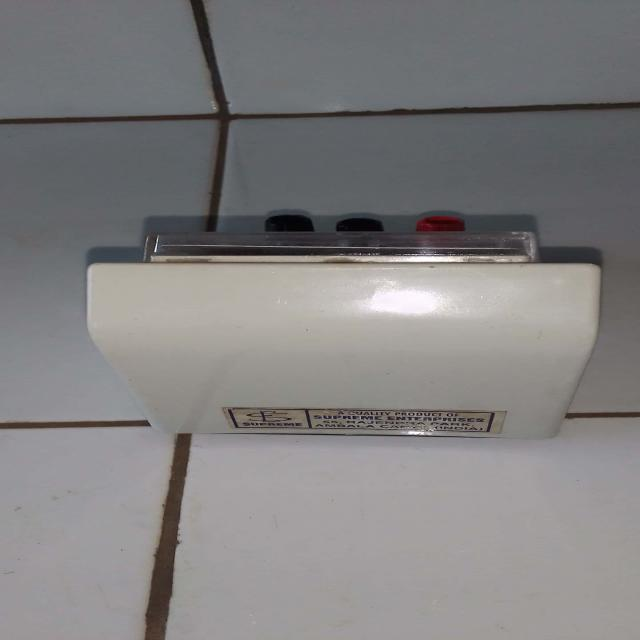Analog Voltmeter: (55, 196, 627, 446)
